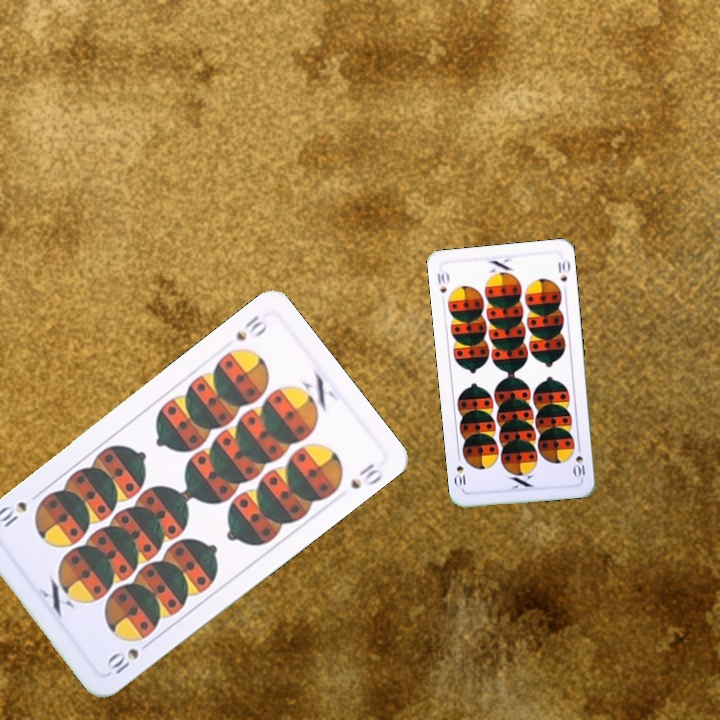S10: (102, 636, 155, 679), (231, 311, 271, 344), (571, 441, 587, 481), (433, 267, 451, 296)
